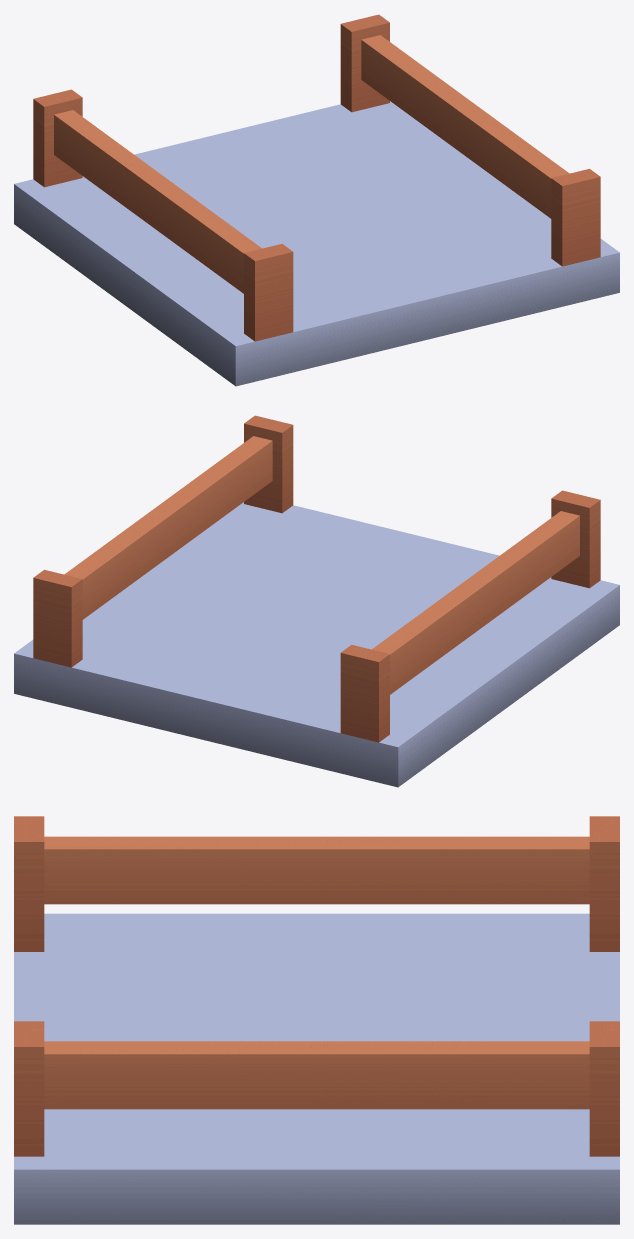
File: path_straight.glb
3 views of the same model, one above another, from view 1: azimuth 30°, elevation 25°; view 2: azimuth 150°, elevation 25°; view 3: azimuth 270°, elevation 25° (orthographic). The views are drawn at different scales.
Parts seen in each view (by area): view 1: path-straight; view 2: path-straight; view 3: path-straight.
Boxes of the visible parts, left/top/right/bottom form: path-straight: left=14, top=14, right=619, bottom=386; path-straight: left=14, top=415, right=619, bottom=787; path-straight: left=14, top=816, right=619, bottom=1224.
Bounding box in the file's own units: 1 × 0.3 × 1.
Materials: 1 (1 with a texture image).
